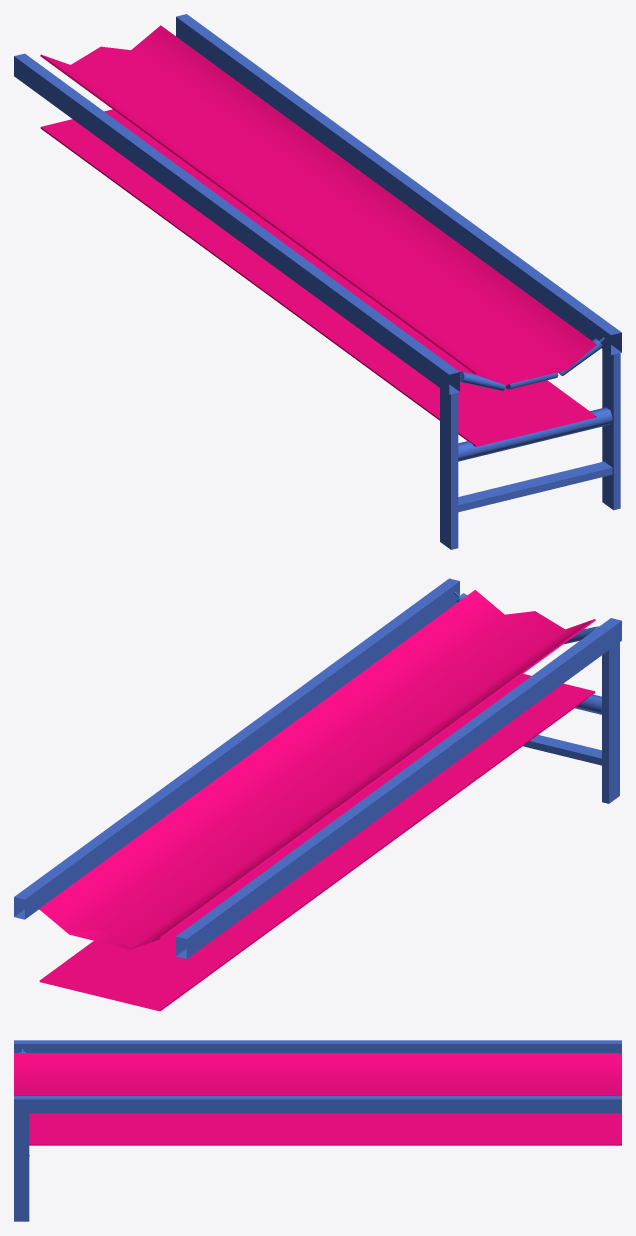
File: PiDaiJiC.fbx
3 renders of one model, top to bottom at view 1: azimuth 30°, elevation 25°; view 2: azimuth 150°, elevation 25°; view 3: azimuth 270°, elevation 25°, orthographic. The views are drawn at different scales.
Parts seen in each view (by area): view 1: PiDaiJiC_LOD0; view 2: PiDaiJiC_LOD0; view 3: PiDaiJiC_LOD0.
Boxes of the visible parts, left/top/right/bottom form: PiDaiJiC_LOD0: left=14, top=14, right=621, bottom=549; PiDaiJiC_LOD0: left=14, top=578, right=621, bottom=1011; PiDaiJiC_LOD0: left=14, top=1040, right=621, bottom=1221.
Size of what is drawn, in the model's own units: 115 by 111 by 500.
